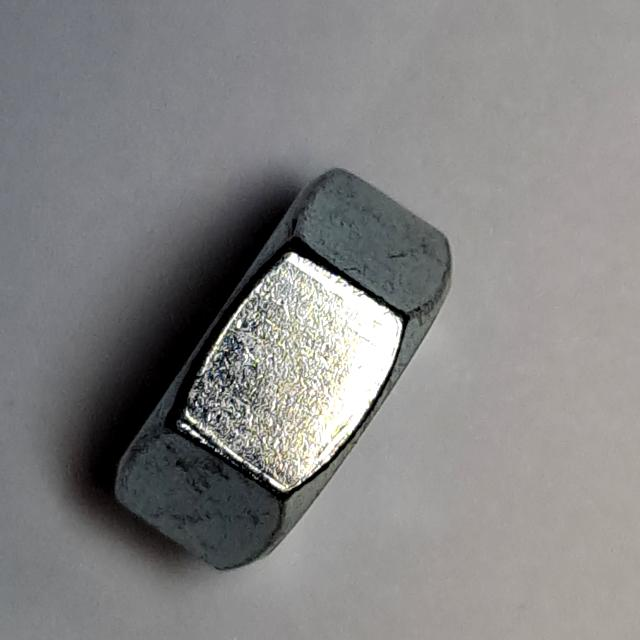Side_Excellent: (102, 149, 494, 593)
